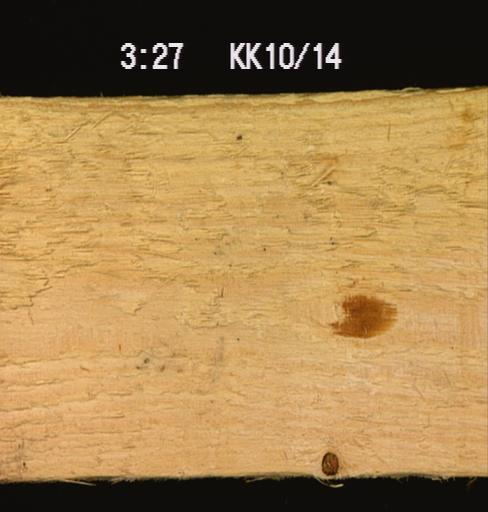dry_knot: (316, 450, 341, 477)
wave: (243, 464, 443, 488)
